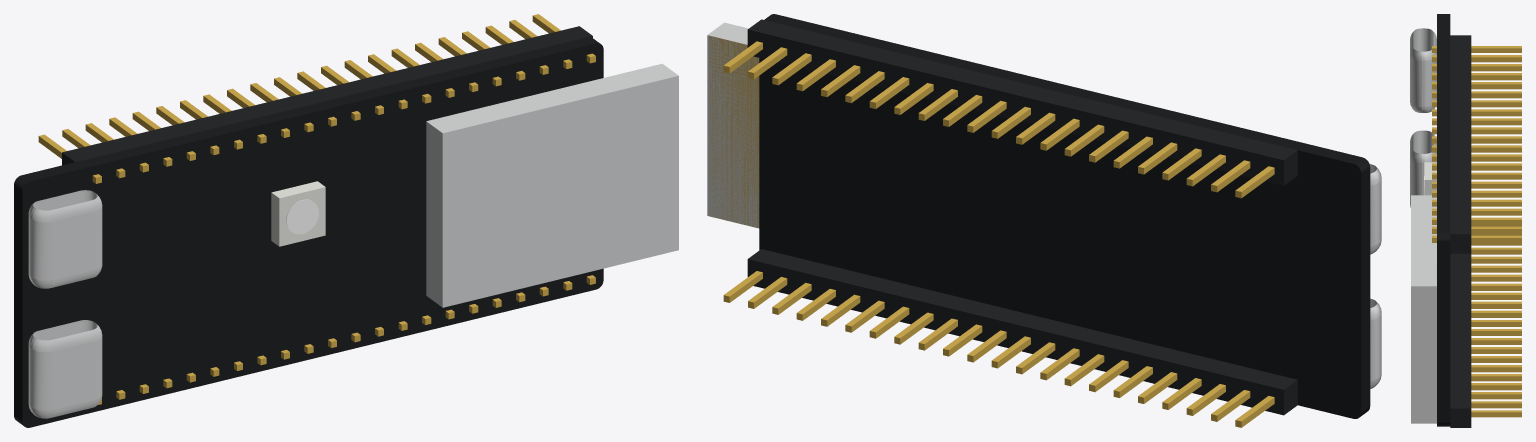
Rendered from esp32-s3-devkit.glb.
The picture shows the model from 3 angles, left to right: view 1: azimuth 30°, elevation 25°; view 2: azimuth 150°, elevation 25°; view 3: azimuth 270°, elevation 25°; orthographic projection. The views are drawn at different scales.
Visible parts, largest first — view 1: board, esp32s3_module, header_a_pins, header_a, usb_uart, usb_otg, rgb_led, header_b_pins, rgb_led_lens; view 2: board, header_a, header_b, header_a_pins, header_b_pins, esp32s3_module, antenna_trace_2, usb_uart, usb_otg; view 3: header_a_pins, header_b_pins, board, esp32s3_module, header_a, header_b, usb_uart, usb_otg, rgb_led.
Boxes of the visible parts, x1=… form: board: x1=14, y1=37, x2=603, y2=427; esp32s3_module: x1=426, y1=63, x2=678, y2=307; header_a_pins: x1=38, y1=14, x2=595, y2=183; header_a: x1=62, y1=26, x2=592, y2=165; usb_uart: x1=28, y1=190, x2=102, y2=288; usb_otg: x1=28, y1=320, x2=102, y2=418; rgb_led: x1=271, y1=181, x2=325, y2=246; header_b_pins: x1=98, y1=275, x2=595, y2=404; rgb_led_lens: x1=286, y1=199, x2=318, y2=234; board: x1=759, y1=14, x2=1370, y2=418; header_a: x1=747, y1=19, x2=1297, y2=185; header_b: x1=747, y1=249, x2=1297, y2=415; header_a_pins: x1=723, y1=41, x2=1274, y2=198; header_b_pins: x1=723, y1=271, x2=1274, y2=427; esp32s3_module: x1=707, y1=22, x2=759, y2=227; antenna_trace_2: x1=709, y1=35, x2=759, y2=228; usb_uart: x1=1369, y1=164, x2=1381, y2=254; usb_otg: x1=1370, y1=298, x2=1381, y2=388; header_a_pins: x1=1432, y1=46, x2=1521, y2=242; header_b_pins: x1=1471, y1=225, x2=1521, y2=417; board: x1=1437, y1=14, x2=1450, y2=426; esp32s3_module: x1=1411, y1=195, x2=1436, y2=423; header_a: x1=1450, y1=35, x2=1471, y2=253; header_b: x1=1450, y1=253, x2=1471, y2=427; usb_uart: x1=1410, y1=28, x2=1436, y2=112; usb_otg: x1=1410, y1=130, x2=1436, y2=207; rgb_led: x1=1424, y1=162, x2=1436, y2=195.
Bounding box in the file's own units: 69.09 × 25.4 × 13.3.
